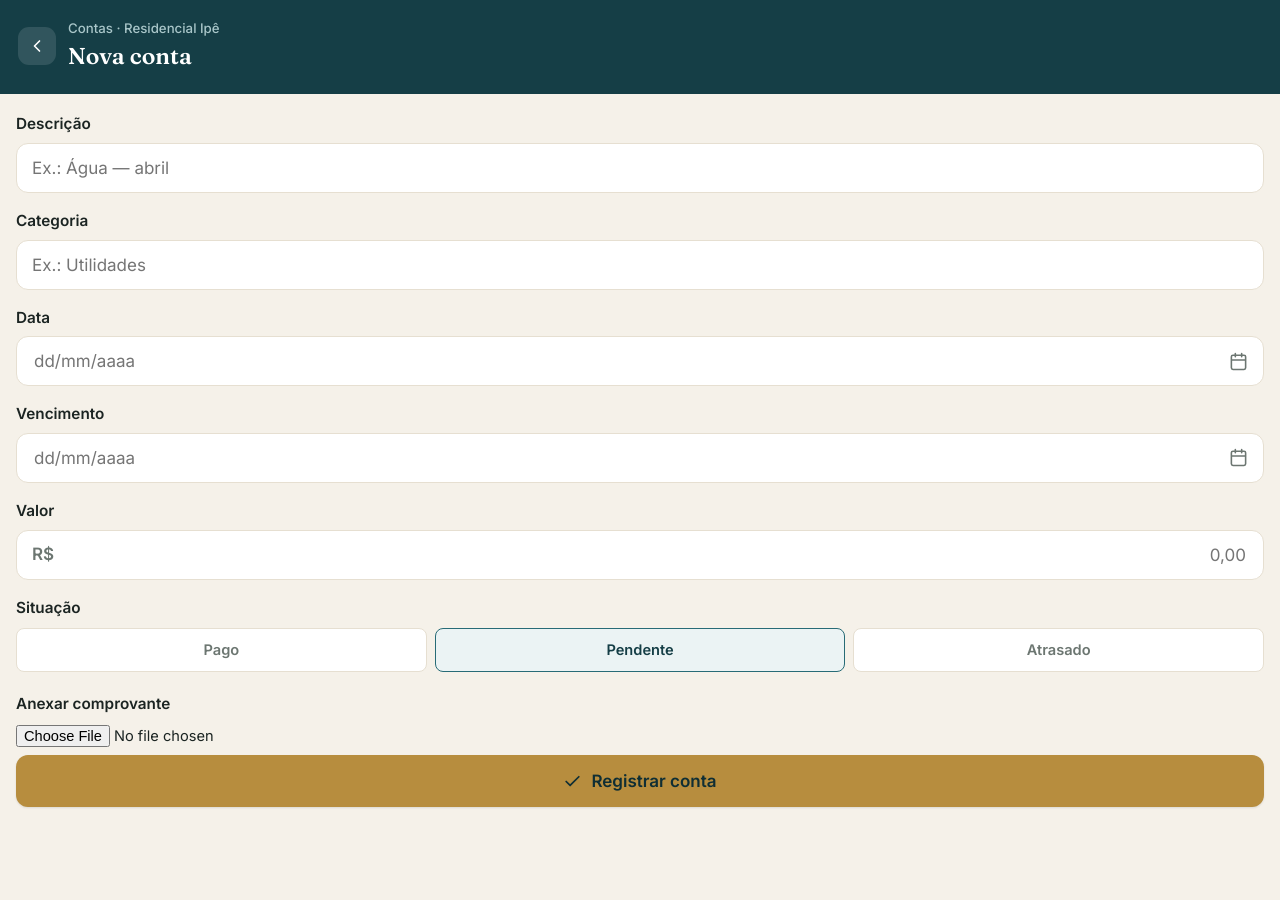
Test: AccountEditScreen › shows a validation error and does not save when the date is blank
The image size is (1280, 900).
Step 1. Type "Água — abril" into the field labelled "Descrição" → (640, 168), box [16, 143, 1264, 193]
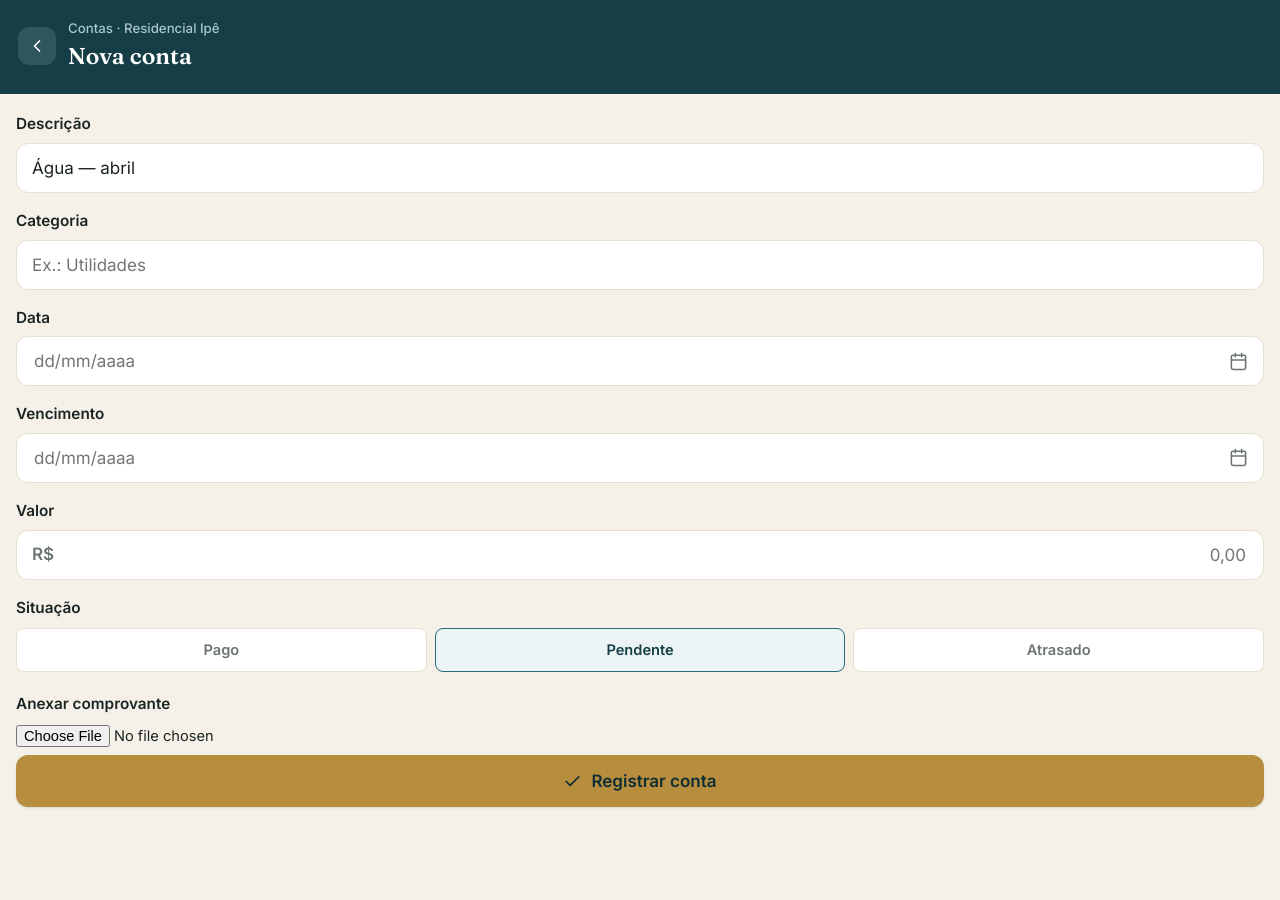
Step 2. Type "Utilidades" into the field labelled "Categoria" → (640, 264), box [16, 240, 1264, 290]
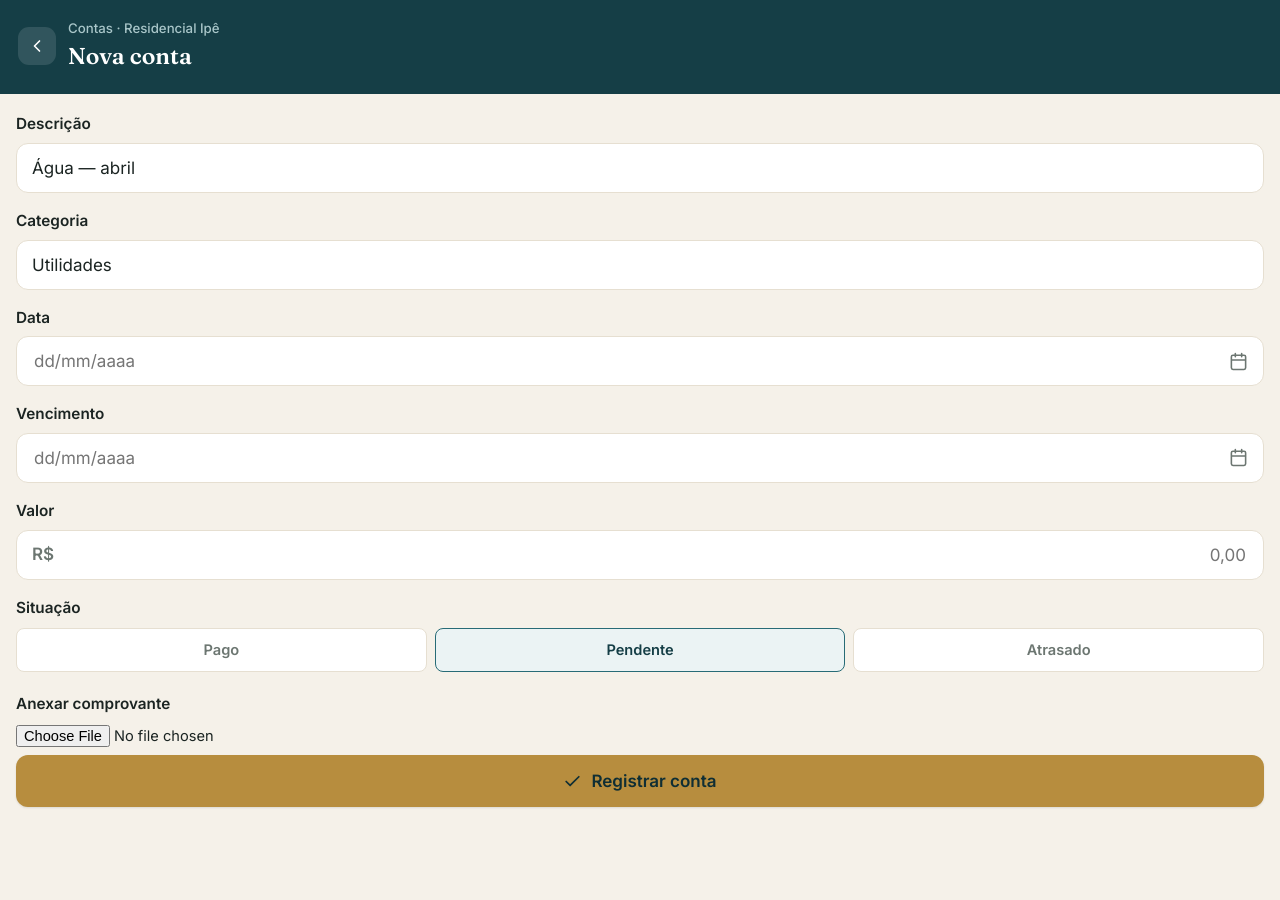
Step 3. Type "124000" into the field labelled "Valor" → (655, 555), box [62, 544, 1248, 566]
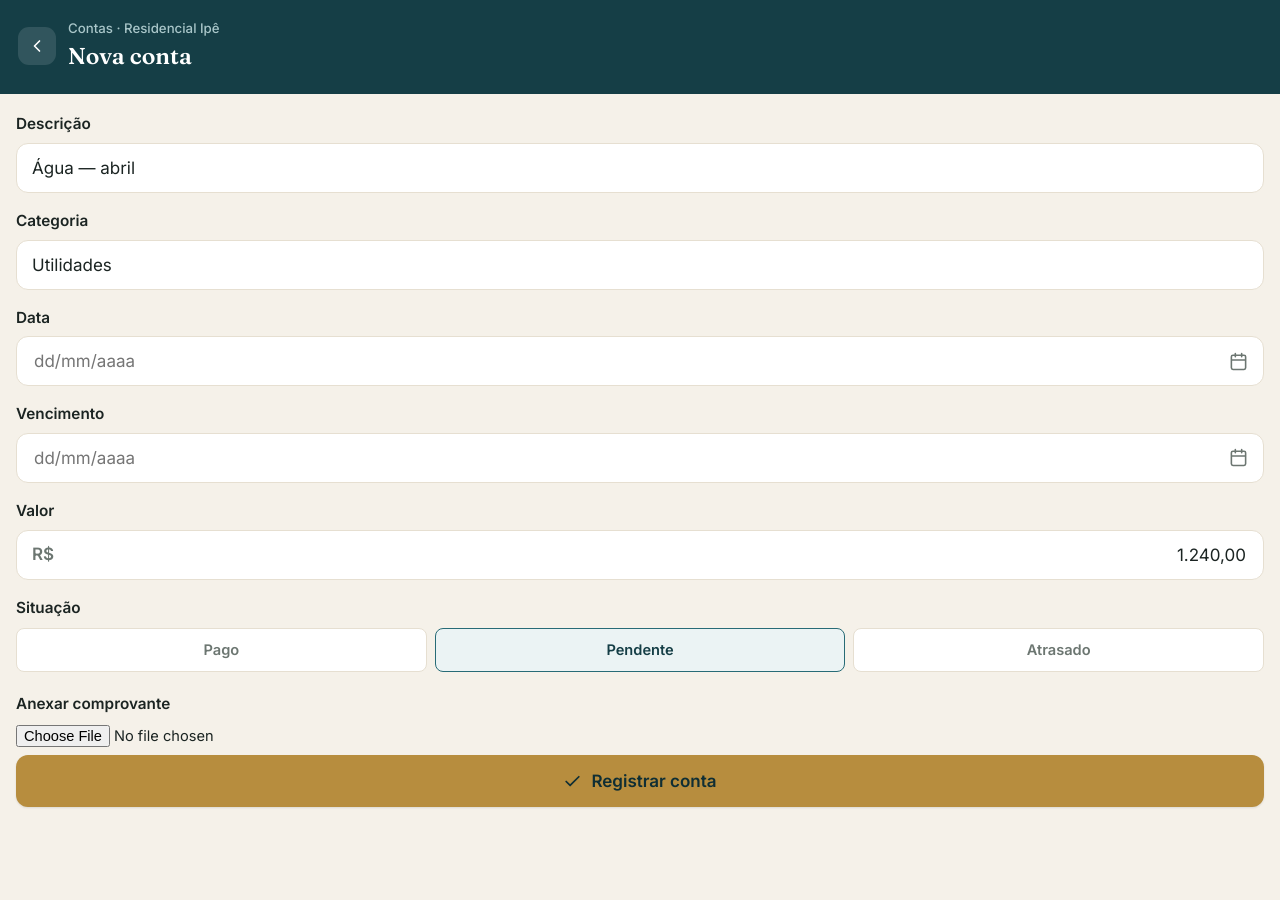
Step 4. Click the button "Registrar conta" → click(640, 781), box [16, 755, 1264, 807]
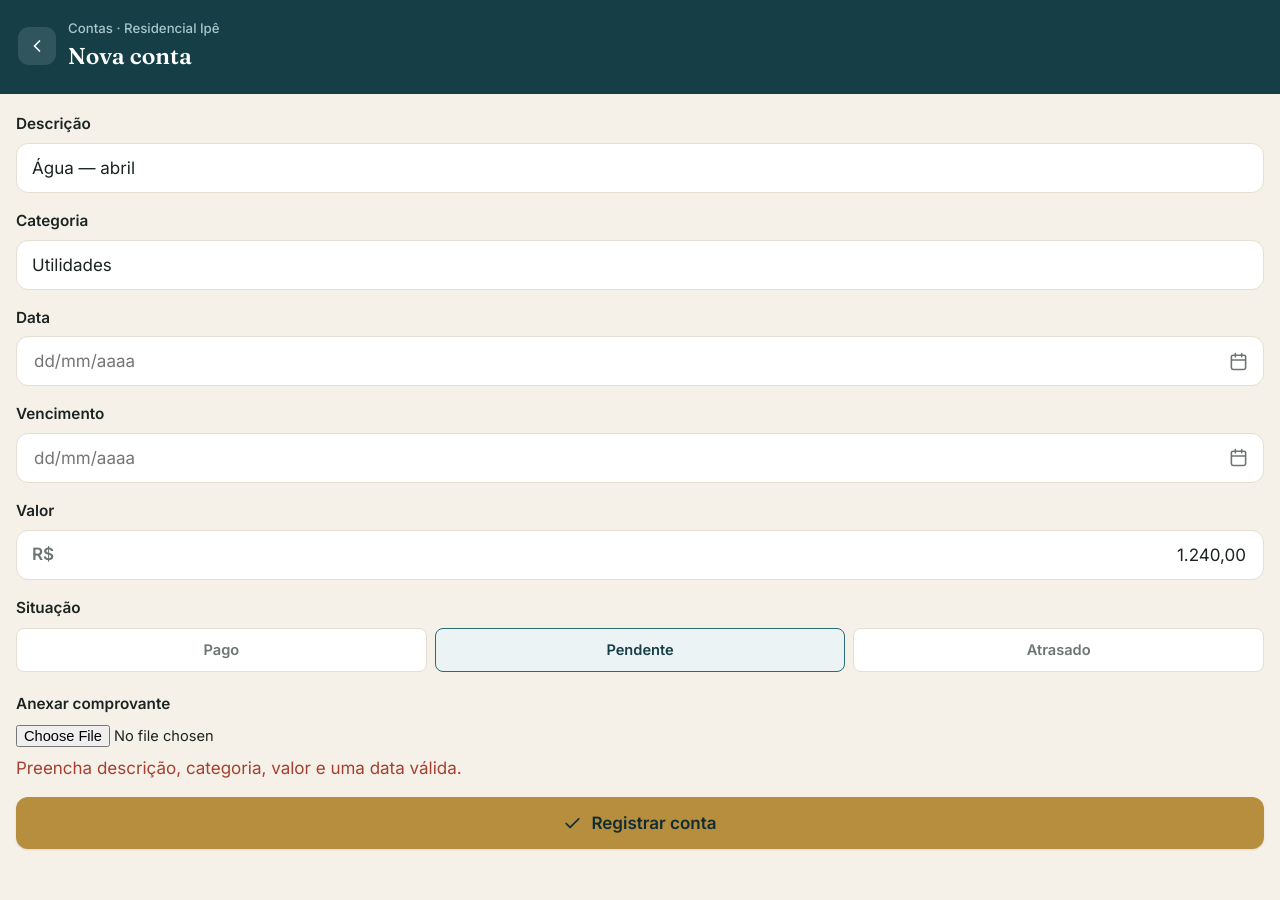
Now the message reads "Preencha descrição, categoria, valor e uma data válida.", box [16, 758, 462, 778]
